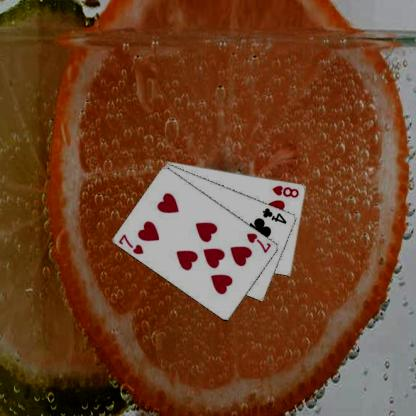4C: (260, 205, 288, 225)
7H: (116, 231, 145, 256), (244, 230, 273, 254)
8H: (270, 183, 300, 198)
